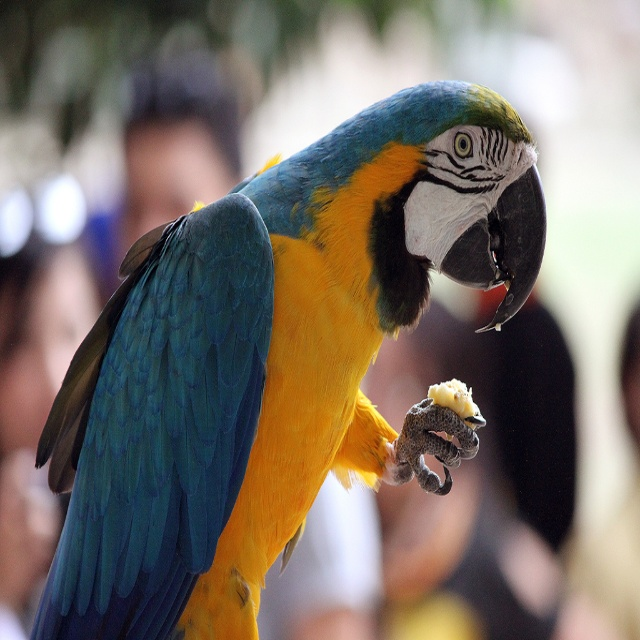Parrot: (34, 74, 549, 639)
